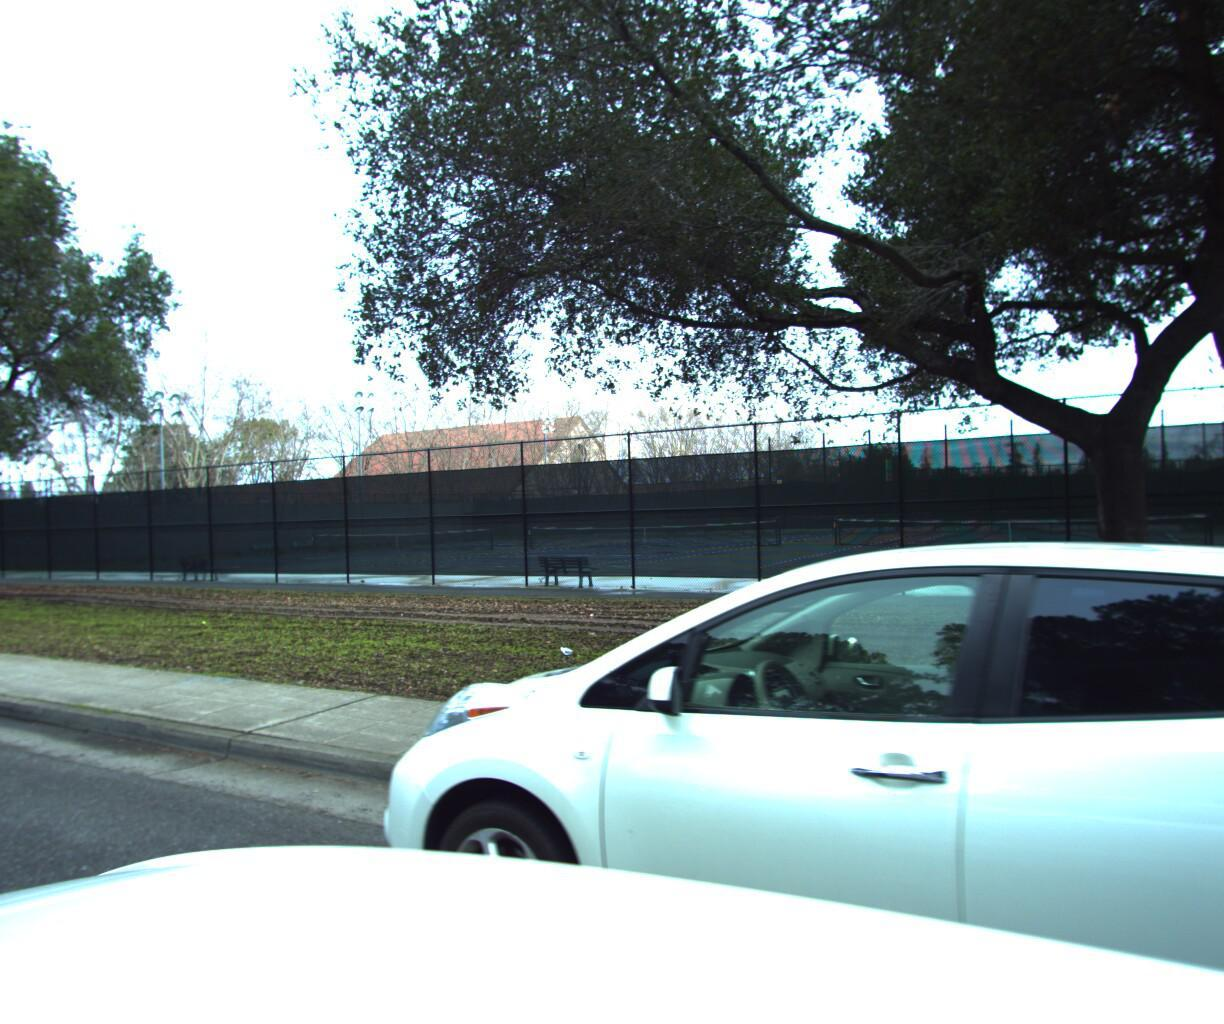car: (281, 526, 1224, 1024)
